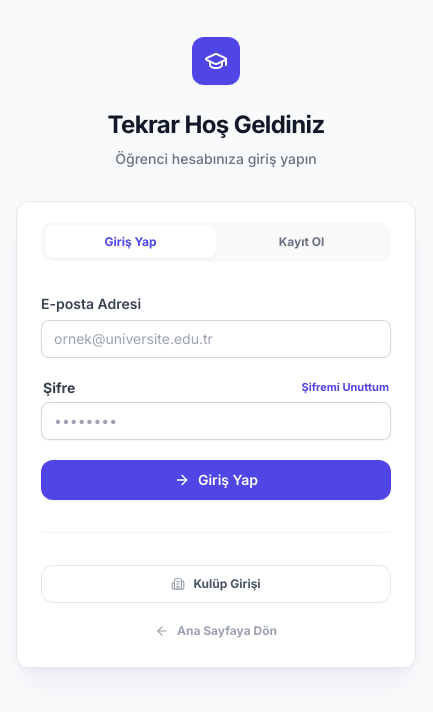
Login Component › displays error message on login failure
The width and height of the screenshot is (433, 712).
Type "test@test.com" into the field with placeholder "ornek@universite.edu.tr".
click(216, 338); type("test@test.com")  # box [41, 320, 391, 358]
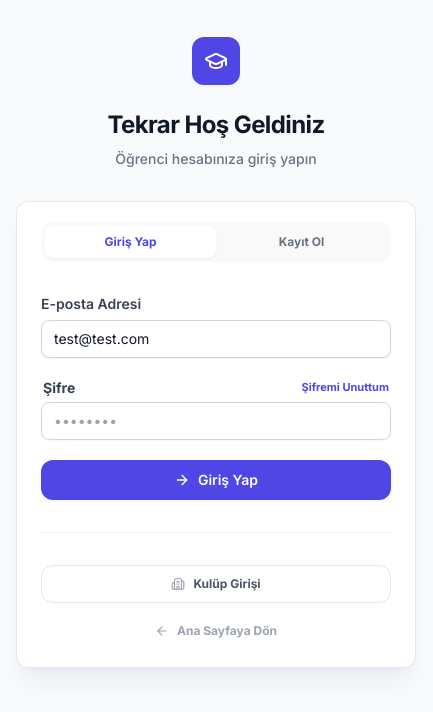
Type "wrongpassword" into the password field with placeholder "••••••••".
click(216, 420); type("wrongpassword")  # box [41, 402, 391, 440]
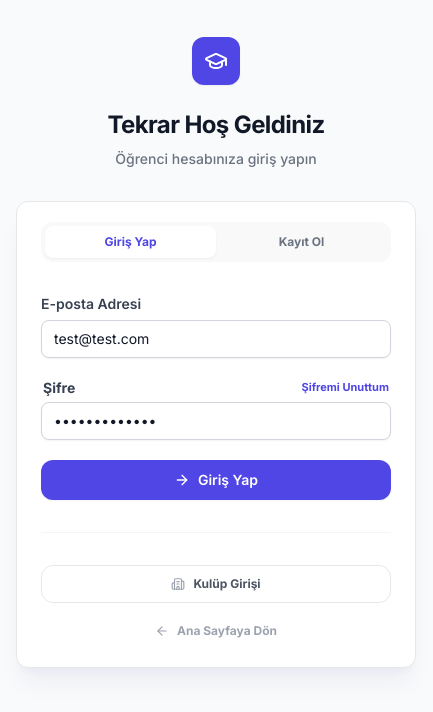
Submit the form with placeholder "ornek@universite.edu.tr", box [41, 294, 391, 500]
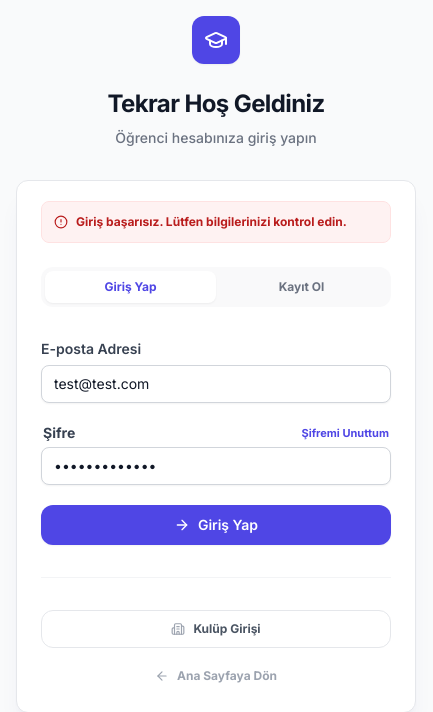
expect the text "Giriş başarısız. Lütfen bilgilerinizi kontrol edin." is shown: met, box [41, 201, 391, 243]
